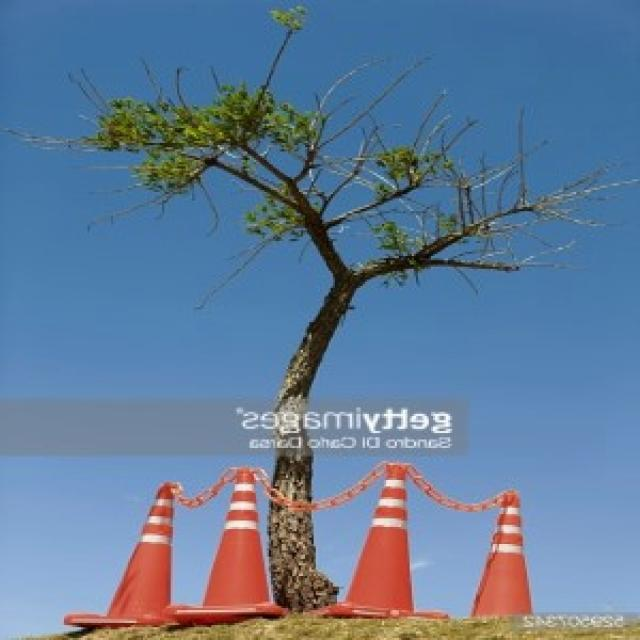cone: (313, 458, 450, 624), (65, 480, 194, 630), (177, 462, 292, 621), (472, 487, 536, 621)
